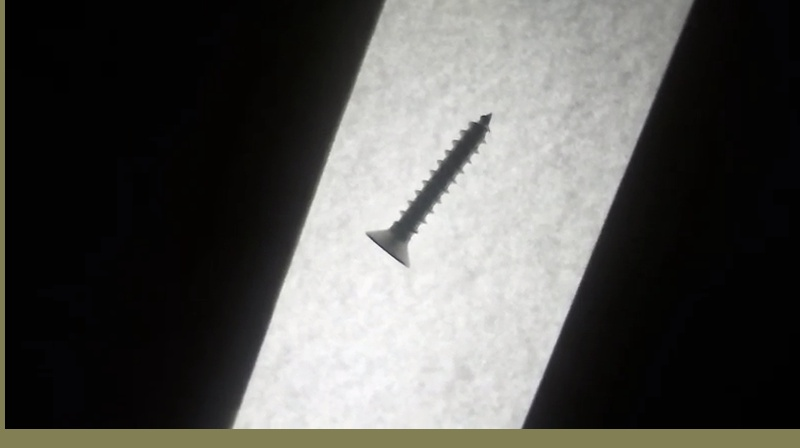S001: (359, 105, 495, 269)
